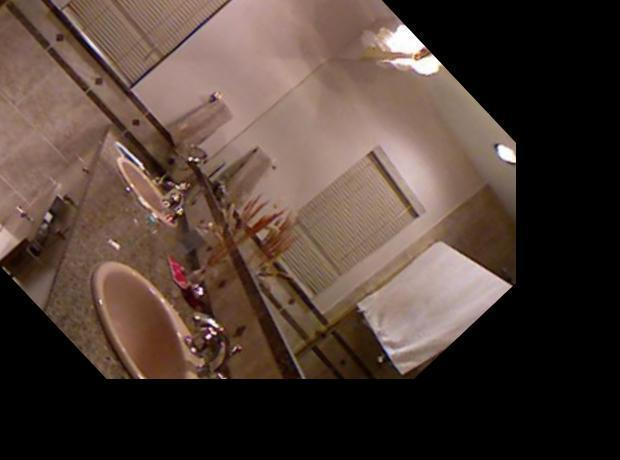Ducha: (0, 0, 198, 138)
Lavamanos: (54, 229, 269, 447), (103, 133, 205, 237)
